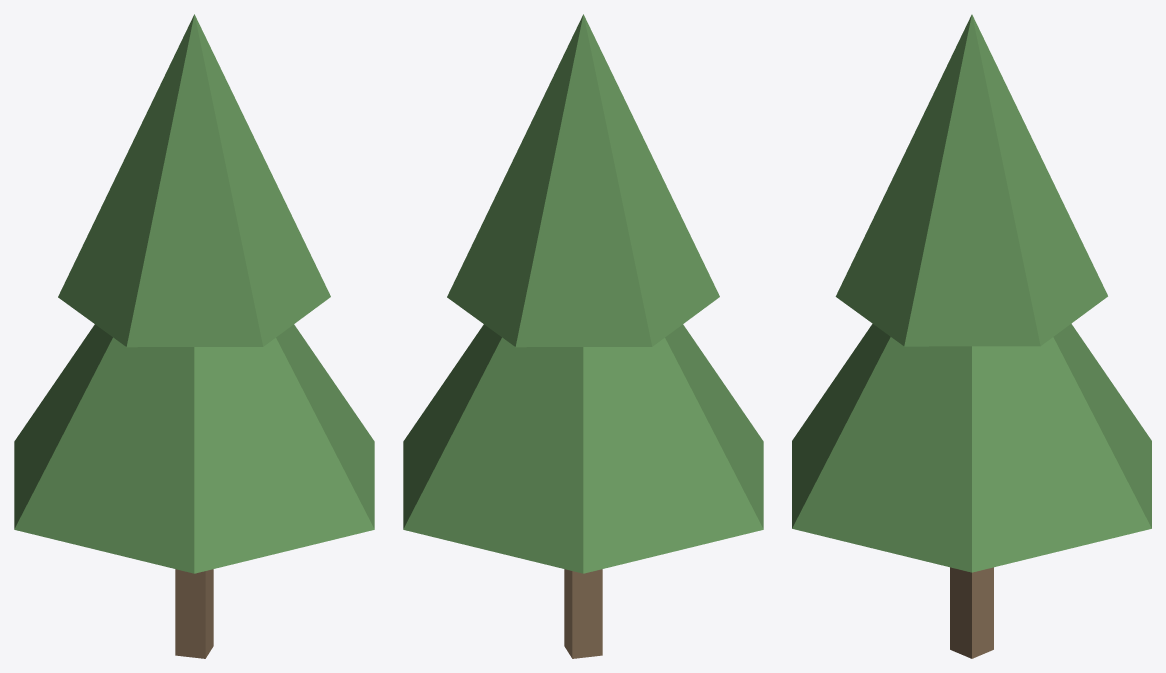
The model's file is tree_lod1.glb.
3 views of the same model, side by side, from view 1: azimuth 30°, elevation 25°; view 2: azimuth 150°, elevation 25°; view 3: azimuth 270°, elevation 25° (orthographic).
Visible parts, largest first — view 1: placeholder; view 2: placeholder; view 3: placeholder.
Boxes of the visible parts, left/top/right/bottom form: placeholder: left=14, top=14, right=374, bottom=658; placeholder: left=403, top=14, right=763, bottom=658; placeholder: left=792, top=14, right=1151, bottom=658.
Bounding box in the file's own units: 3.2 × 5.4 × 2.77.
